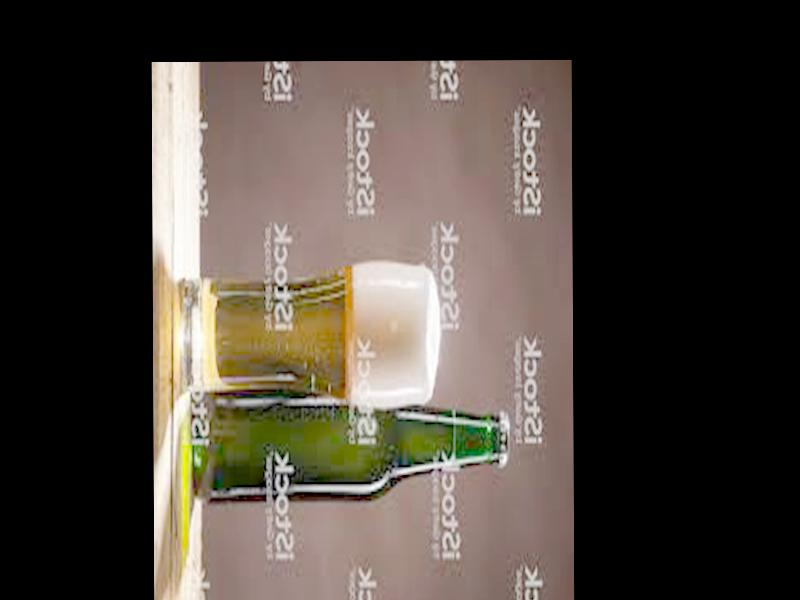Beer: (189, 387, 509, 505)
